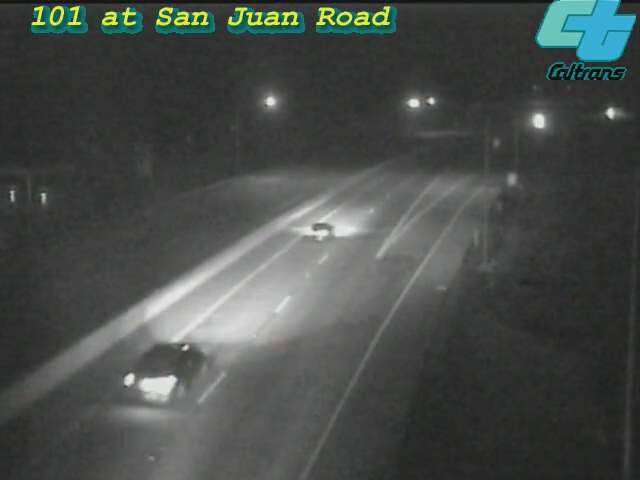vehicle: (116, 313, 226, 423), (282, 190, 362, 270), (513, 96, 563, 146), (585, 89, 635, 139), (593, 90, 640, 140)
